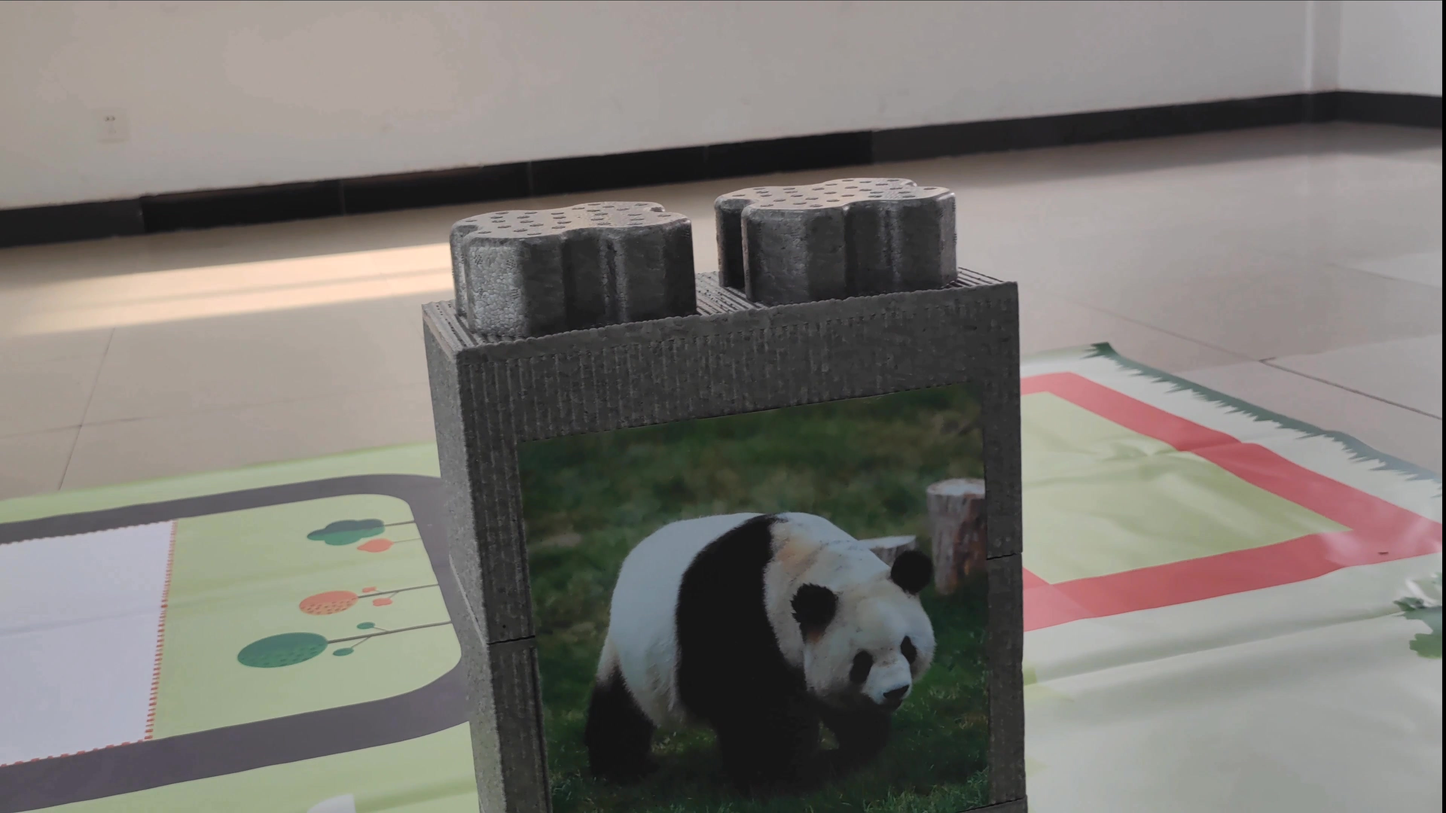panda: (561, 459, 969, 809)
